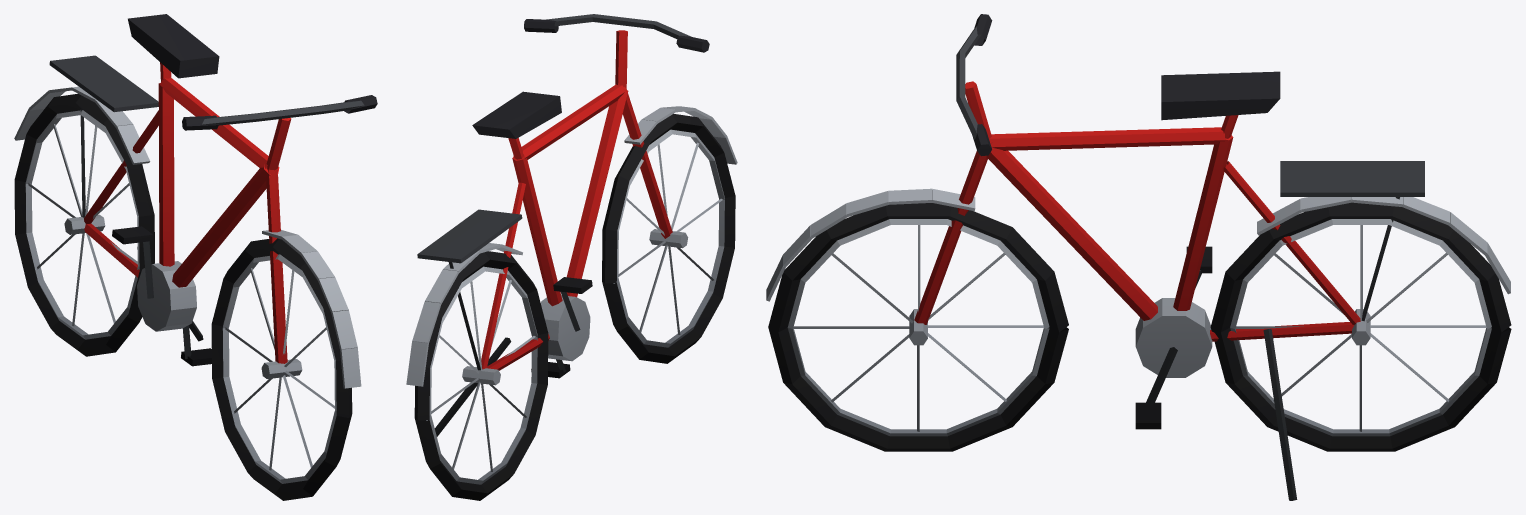
The model's file is Bicycle.fbx.
3 renders of one model, left to right at view 1: azimuth 30°, elevation 25°; view 2: azimuth 150°, elevation 25°; view 3: azimuth 270°, elevation 25°, orthographic. The views are drawn at different scales.
Visible parts, largest first — view 1: Bicycle_LOD0; view 2: Bicycle_LOD0; view 3: Bicycle_LOD0.
Part boxes in pixels (bbox=[...]): Bicycle_LOD0: bbox=[14, 14, 377, 500]; Bicycle_LOD0: bbox=[406, 14, 737, 500]; Bicycle_LOD0: bbox=[766, 14, 1511, 500].
Size of what is drawn, in the model's own units: 0.5825 by 1.06 by 1.75.
1 material, 1 textured.
